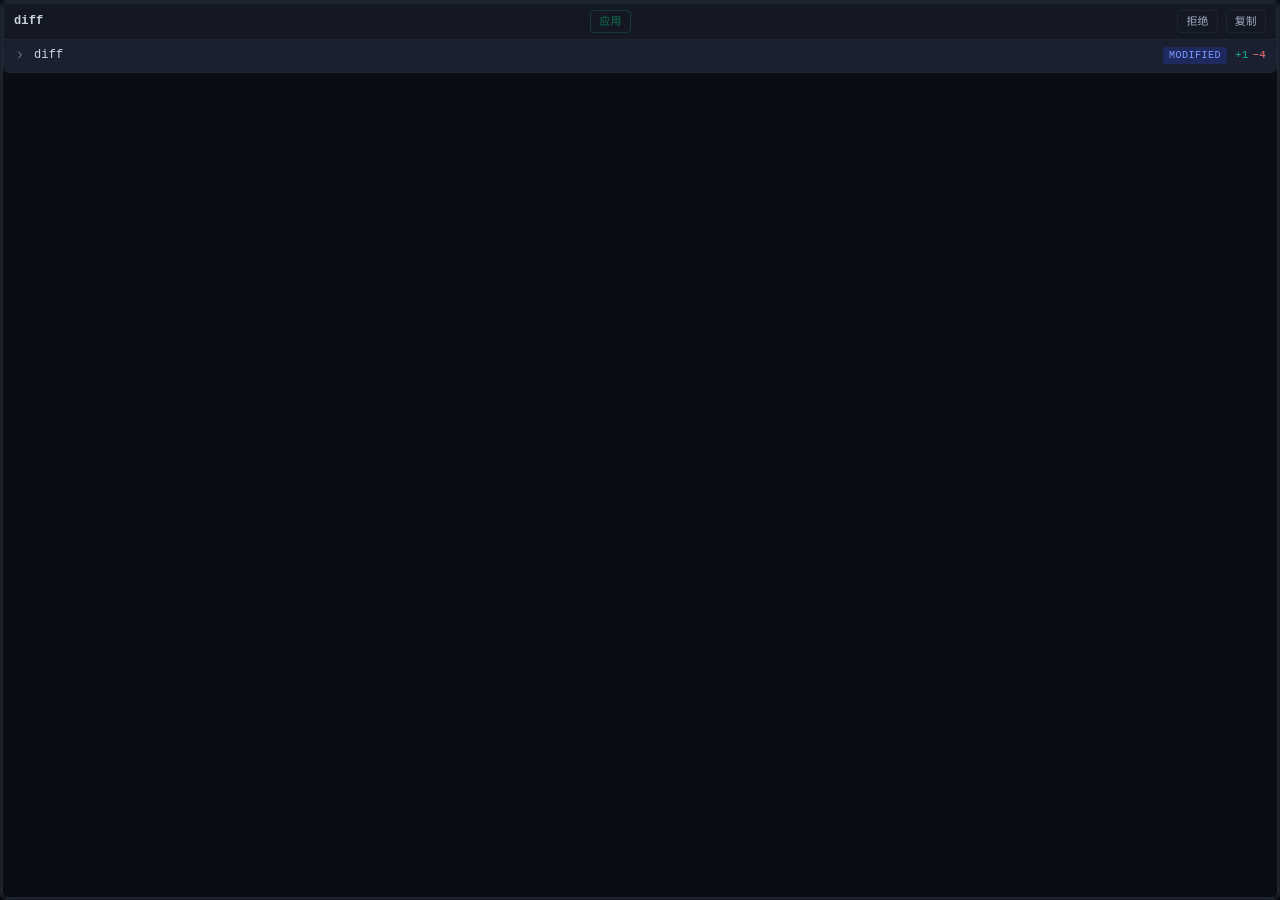
Test case: DiffPrimitive — malformed / empty fallback › falls back to raw text for LLM-style +/- fragments (no ---/+++ headers)
The image size is (1280, 900).
Expected: the text with class "diff-file__add" reads "+1", [1235,49,1248,61]
Expected: the text with class "diff-file__del" reads "−4", [1252,49,1266,61]
Expand the body — "modified" starts collapsed.
Click the button with class "diff-file__header".
click(1195, 55)  # box [4,40,1276,72]
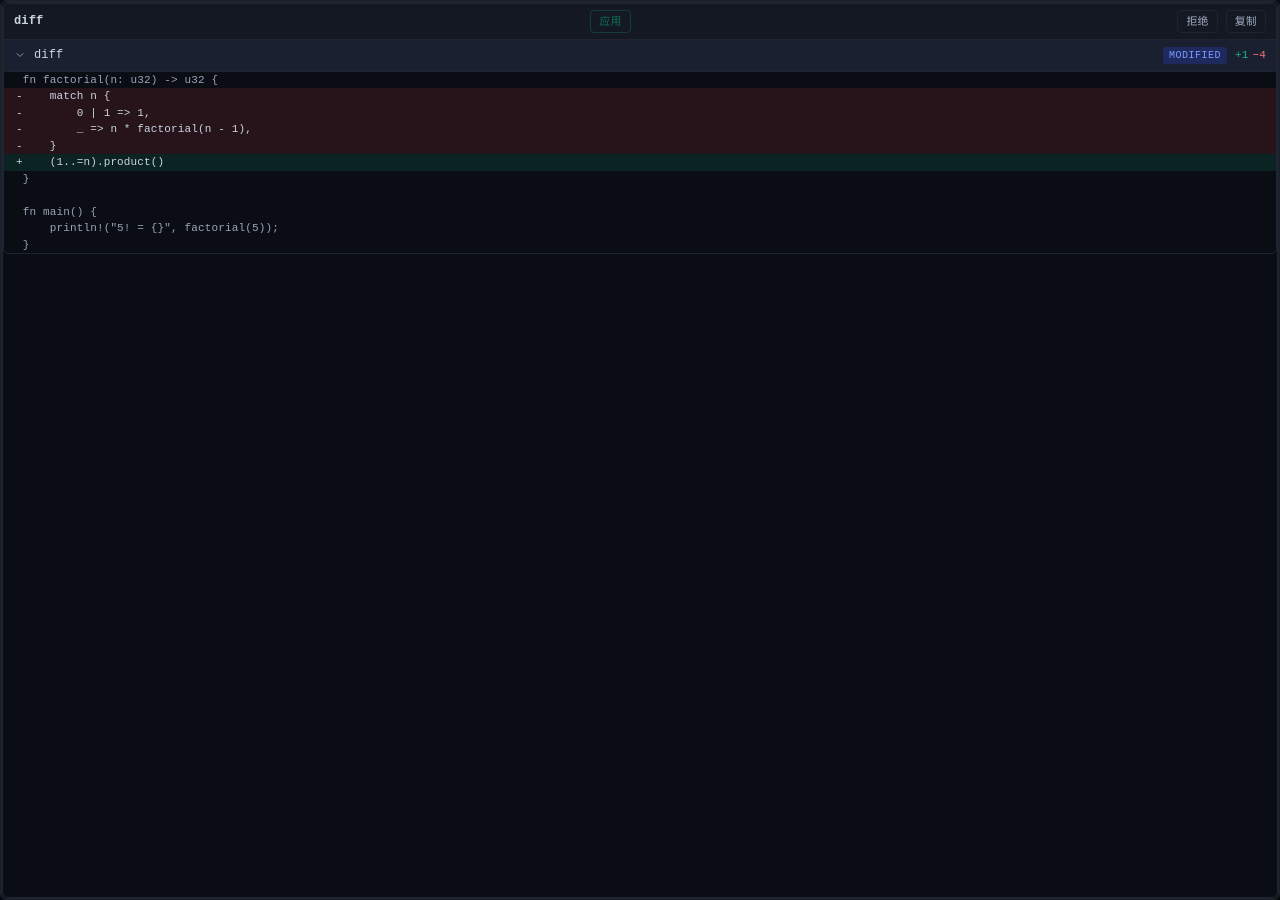
Expected: the number of elements with class "diff-raw-line--add" is 1, [4,154,1276,171]
Expected: the number of elements with class "diff-raw-line--del" is 4, [4,88,1276,105]; [4,105,1276,121]; [4,121,1276,138]; [4,138,1276,154]
Expected: the text "fn factorial(n: u32) -> u32 {" is shown, [16,74,218,86]
